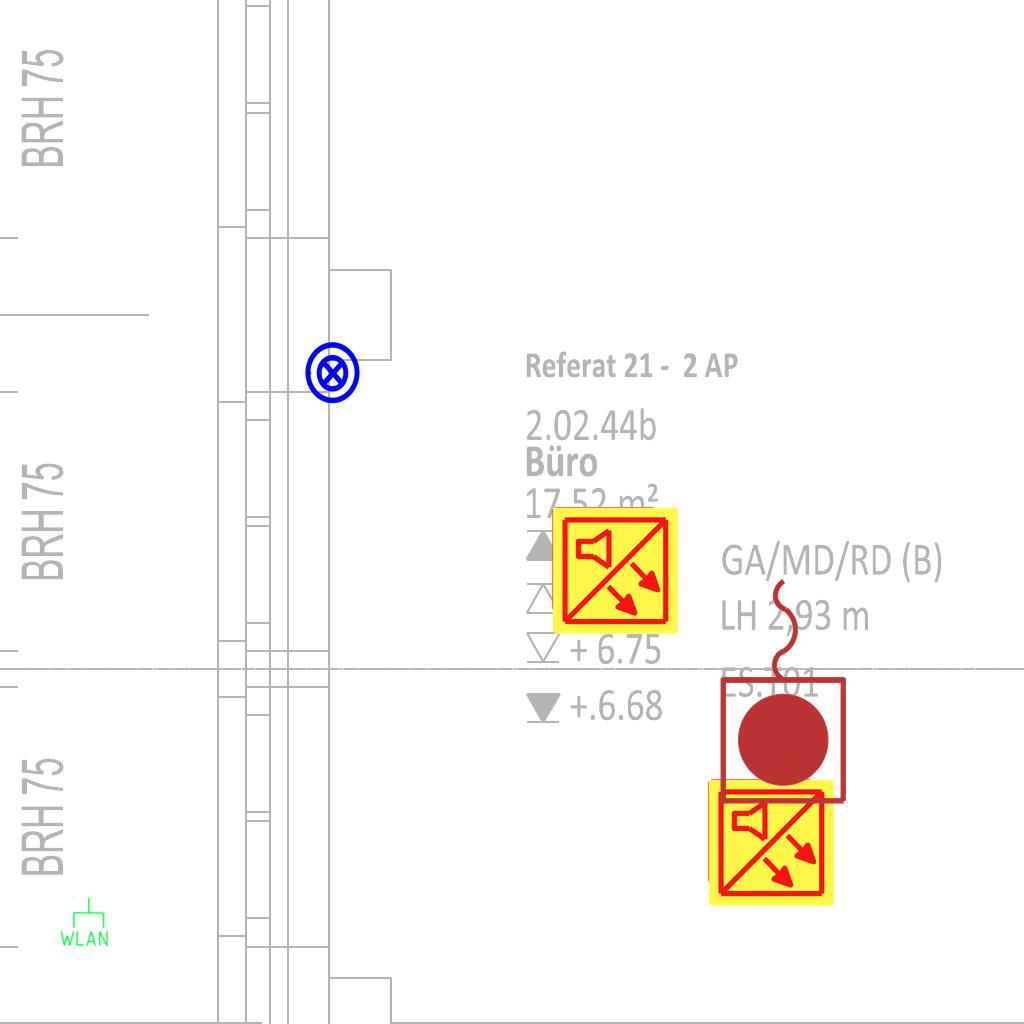OKW_Multisensormelder_(Kombination_optischer_Rauch-Kahlenmonoxid_Waerme-Melder): (705, 777, 837, 909), (549, 505, 681, 637)
Taster_beleuchtet: (300, 340, 366, 406)
WLAN: (58, 896, 110, 948)
Zugtaster: (713, 568, 857, 812)
